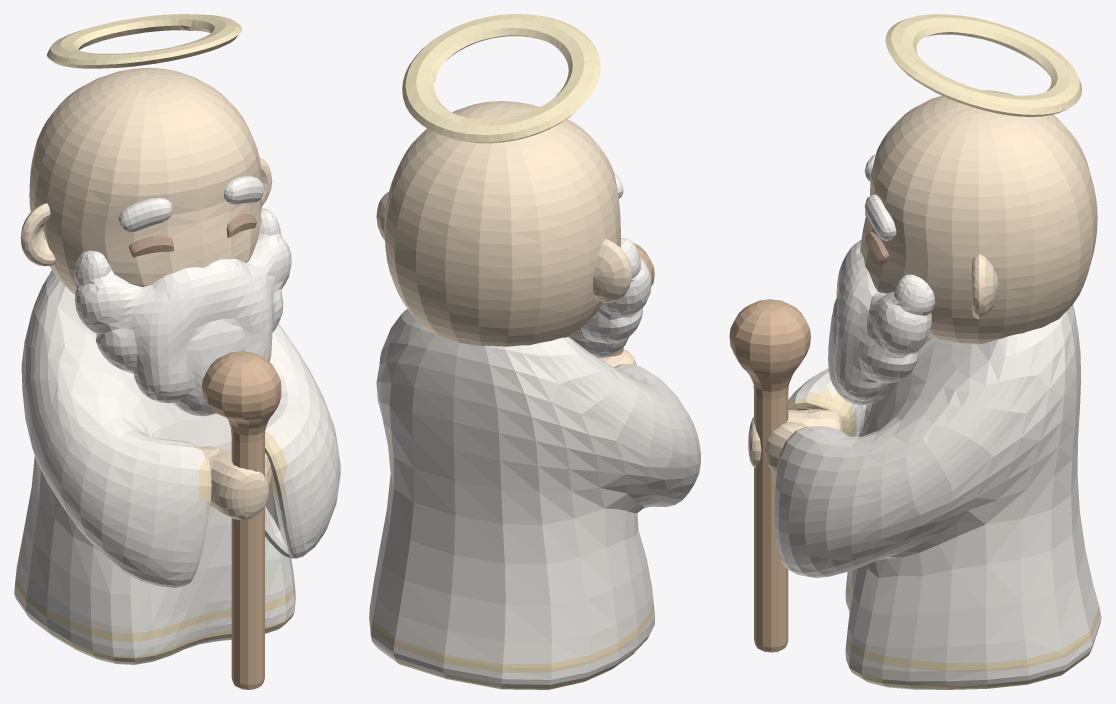
File: god_monk.glb
3 views of the same model, side by side, from view 1: azimuth 30°, elevation 25°; view 2: azimuth 150°, elevation 25°; view 3: azimuth 270°, elevation 25° (orthographic). The views are drawn at different scales.
Parts seen in each view (by area): view 1: robe, skin, white, wood, halo, gold, eye; view 2: robe, skin, halo, white, gold; view 3: robe, skin, white, wood, halo, gold.
Boxes of the visible parts, x1,y1,x2,y2 form: robe: [14, 270, 340, 664]; skin: [20, 67, 272, 519]; white: [74, 176, 291, 416]; wood: [202, 351, 281, 689]; halo: [47, 14, 241, 68]; gold: [15, 431, 295, 662]; eye: [129, 213, 256, 257]; robe: [369, 309, 700, 686]; skin: [376, 101, 636, 367]; halo: [402, 14, 600, 143]; white: [570, 170, 651, 357]; gold: [369, 364, 654, 689]; robe: [774, 304, 1101, 689]; skin: [748, 90, 1097, 473]; white: [828, 154, 935, 405]; wood: [729, 299, 810, 652]; halo: [885, 14, 1081, 116]; gold: [777, 386, 1100, 689].
Bounding box in the file's own units: 0.4712 × 0.9995 × 0.5522.
